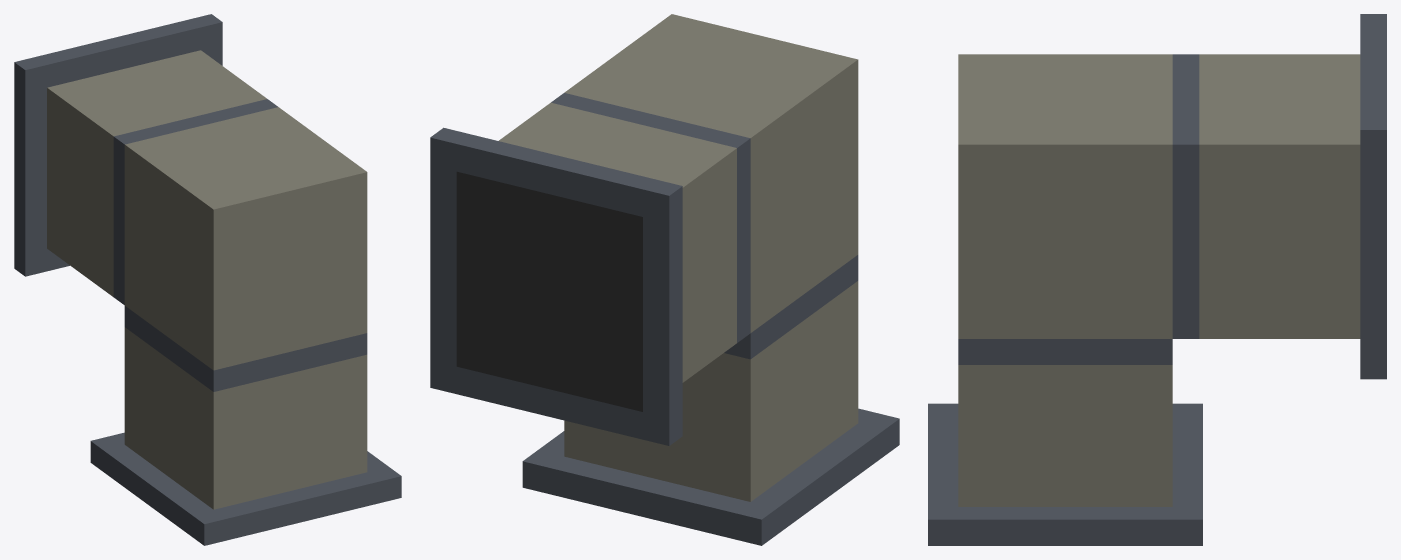
File: vent3.FBX
3 renders of one model, left to right at view 1: azimuth 30°, elevation 25°; view 2: azimuth 150°, elevation 25°; view 3: azimuth 270°, elevation 25°, orthographic. The views are drawn at different scales.
Parts seen in each view (by area): view 1: vent3; view 2: vent3; view 3: vent3.
Part boxes in pixels (<box>): vent3: <box>14,14,401,545</box>; vent3: <box>430,14,899,545</box>; vent3: <box>928,14,1386,545</box>.
Bounding box in the file's own units: 1.28 × 2.14 × 2.14.
